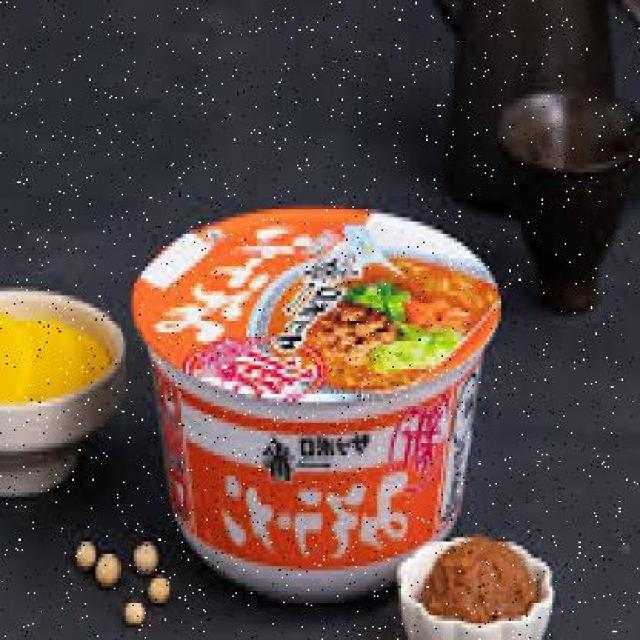Miscellaneous: (125, 206, 493, 606)
